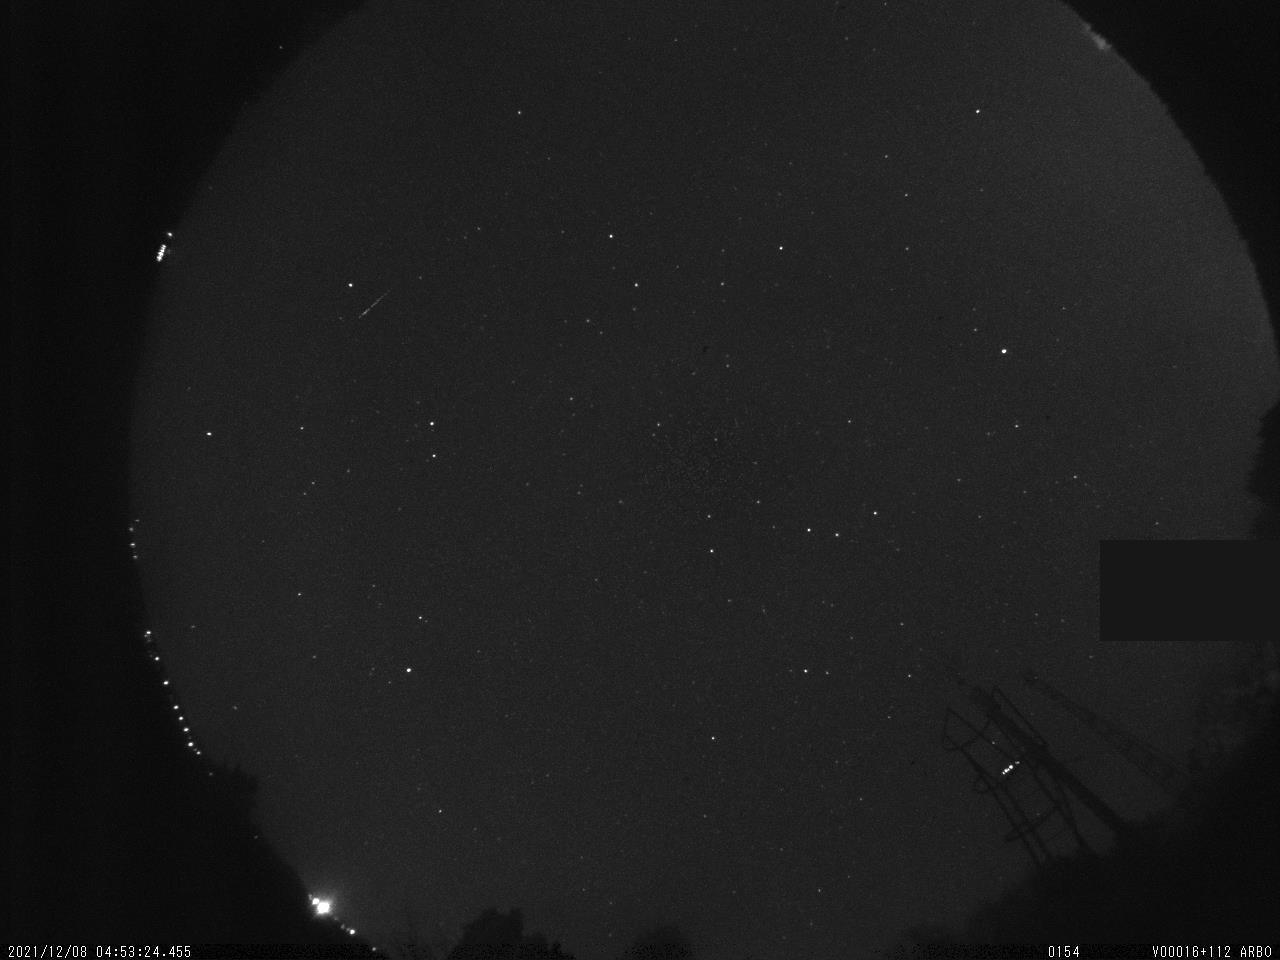meteor: (337, 281, 404, 335)
